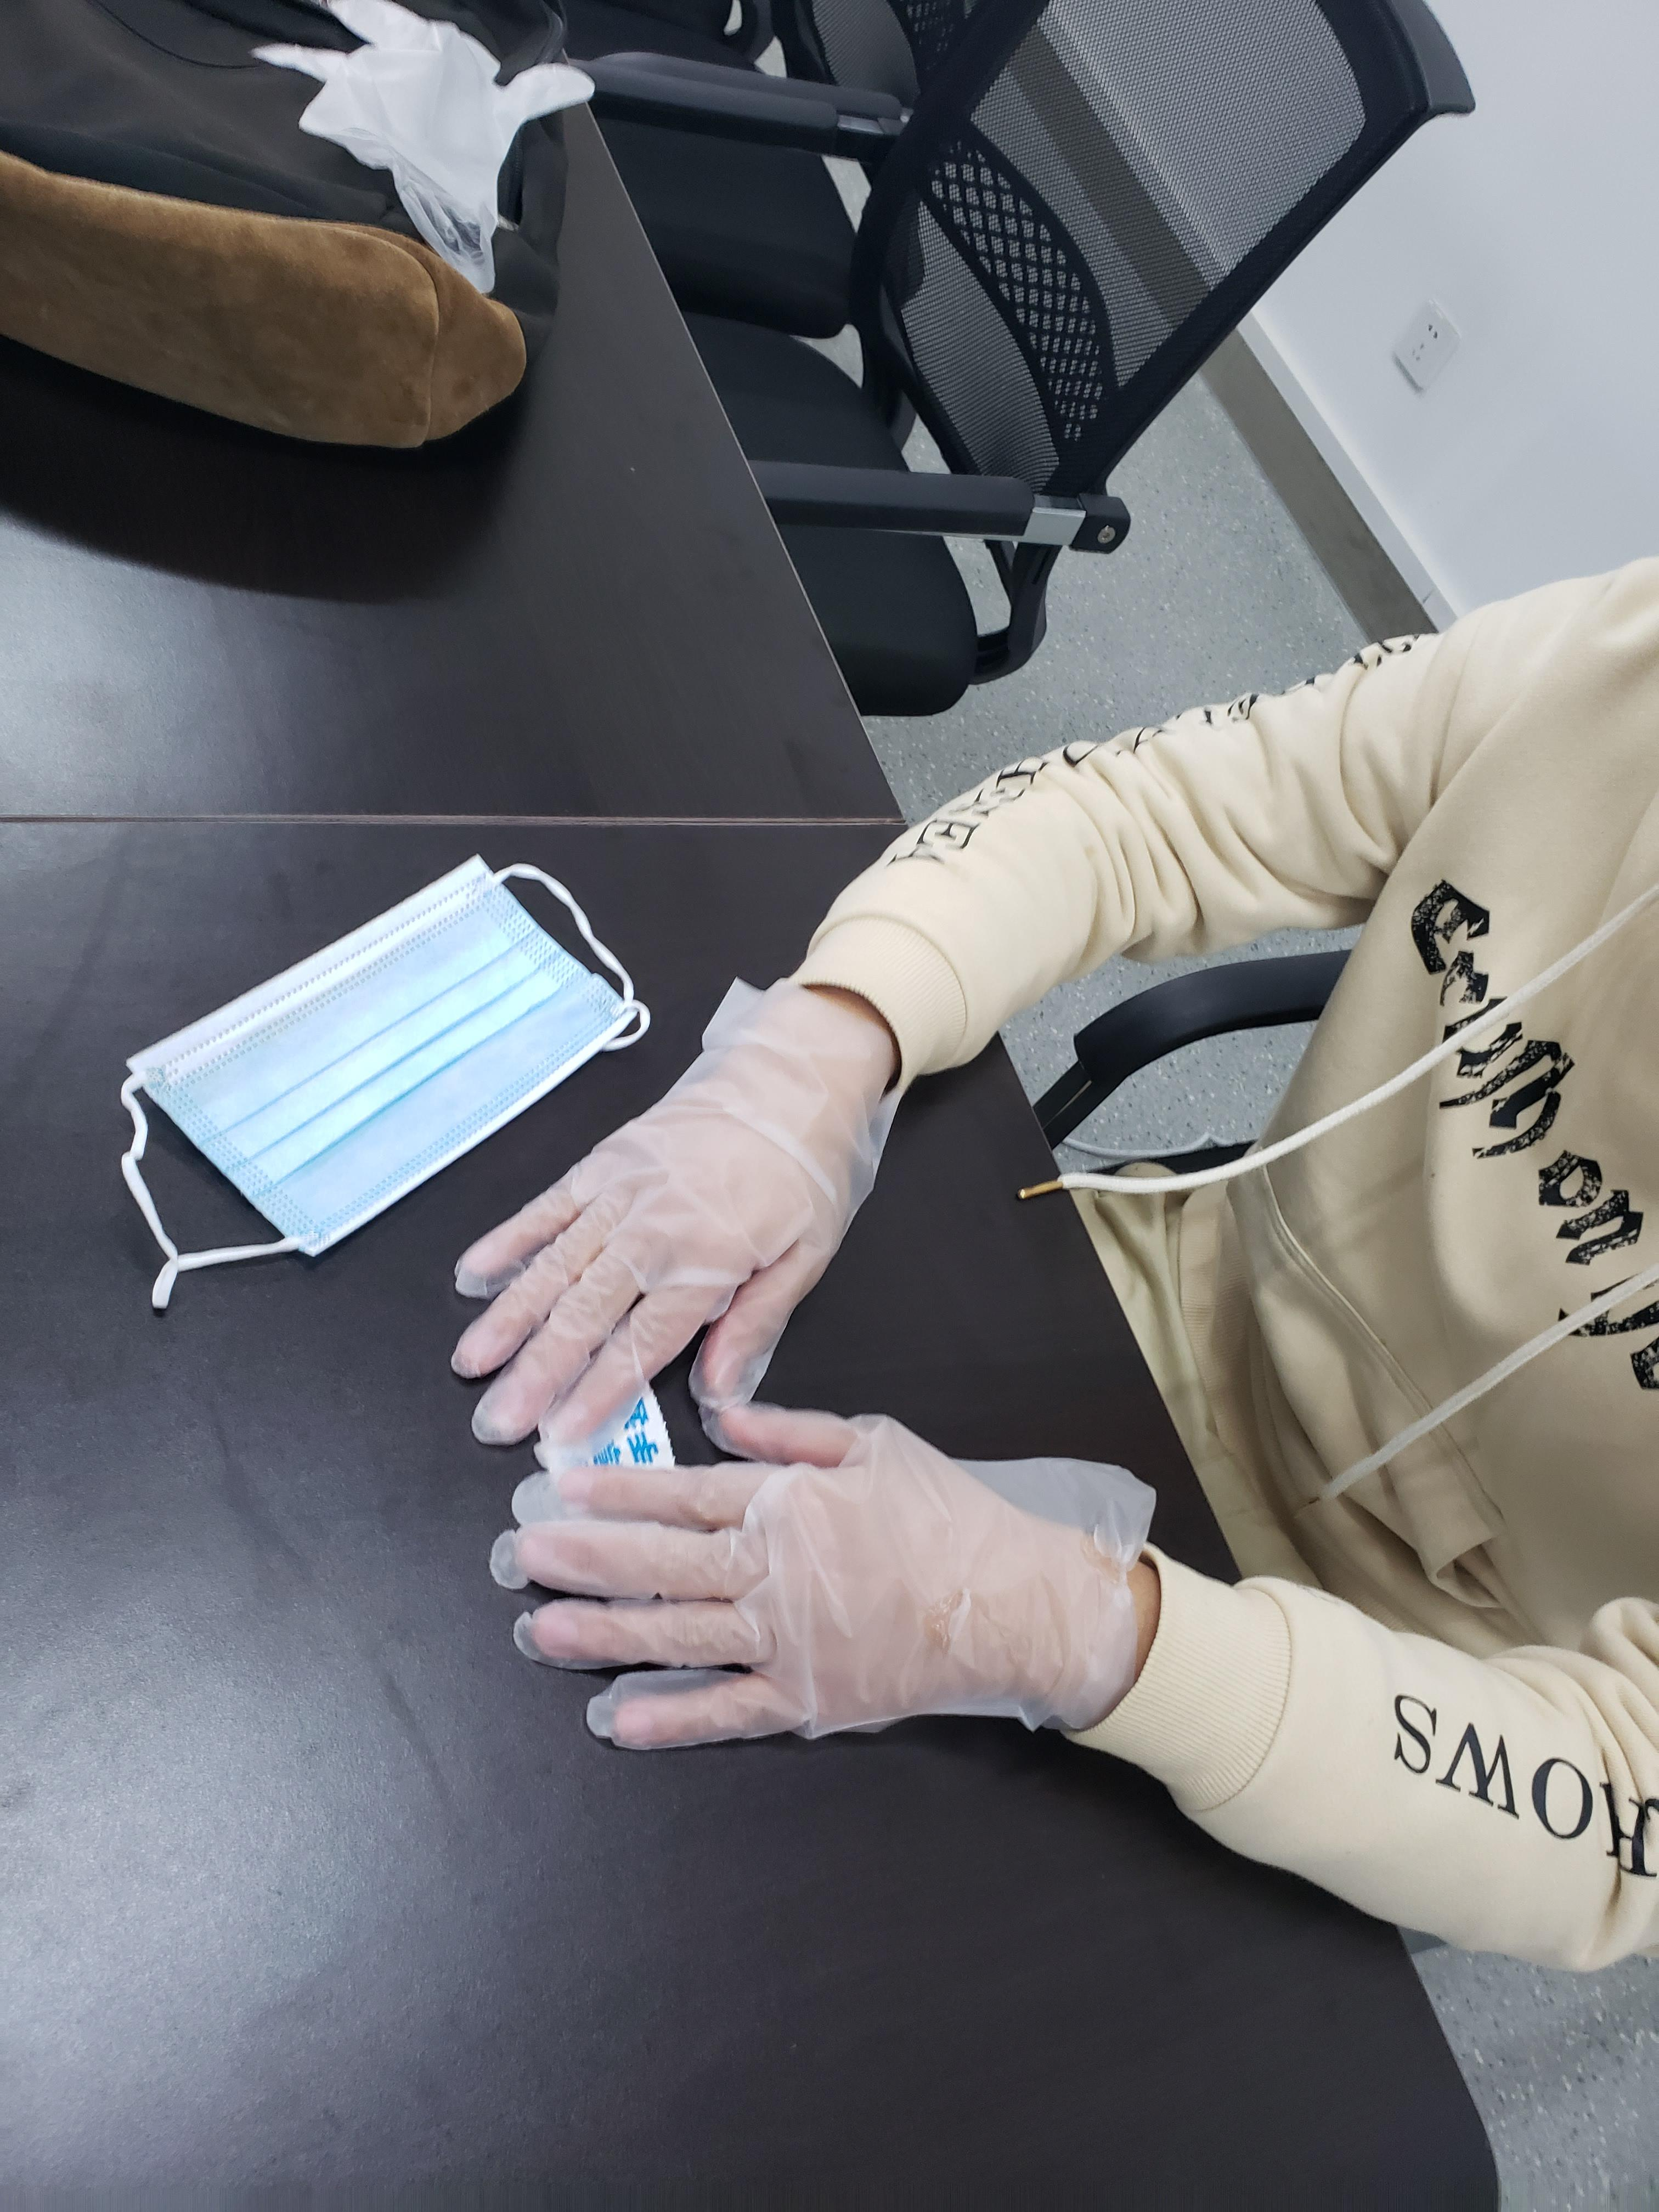gloves: (486, 1418, 1157, 1759), (453, 984, 878, 1426)
